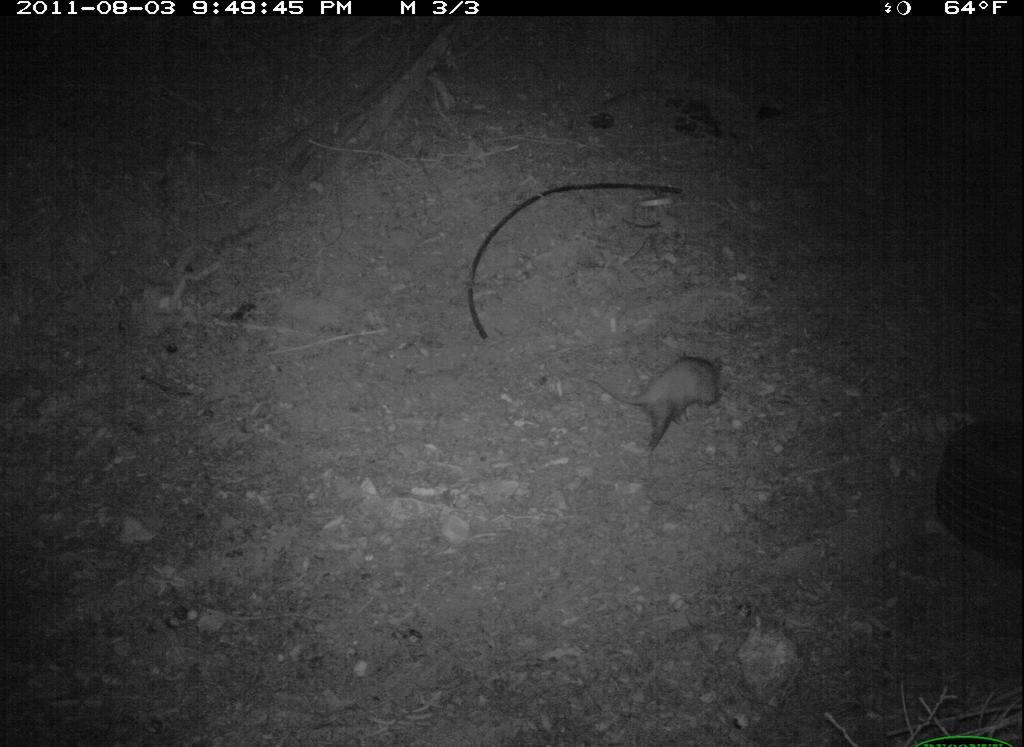opossum: (561, 350, 730, 470)
